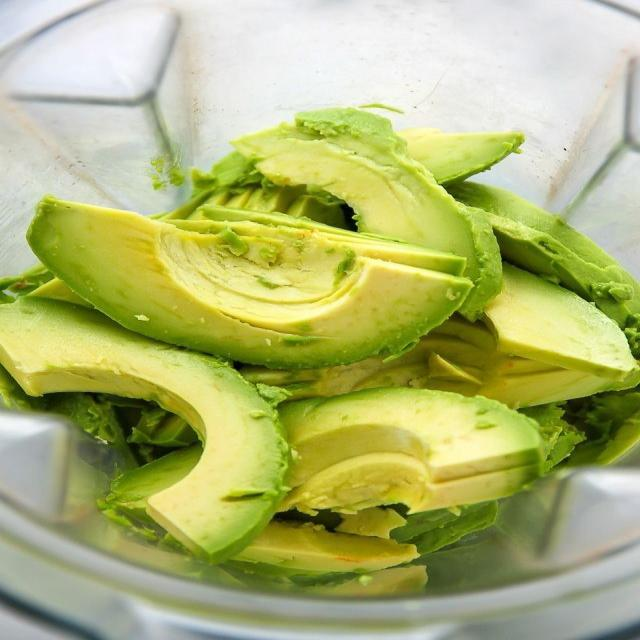avocado: (0, 297, 288, 561), (28, 197, 470, 367), (233, 108, 500, 319), (241, 316, 636, 407), (450, 182, 639, 355), (280, 388, 542, 512), (200, 205, 465, 275), (485, 264, 637, 381), (167, 220, 463, 275), (169, 151, 344, 226), (233, 521, 417, 575), (234, 521, 418, 574), (280, 452, 429, 513), (479, 354, 632, 407), (159, 186, 345, 227), (106, 444, 202, 520), (398, 128, 524, 183), (304, 566, 427, 597), (128, 408, 196, 447), (336, 507, 406, 538), (30, 278, 89, 306)
